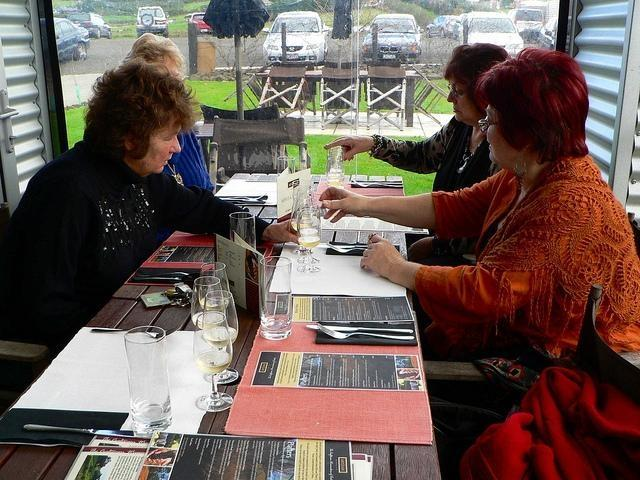car: (261, 10, 332, 68), (360, 13, 426, 67), (463, 10, 524, 58), (54, 19, 90, 63), (506, 9, 545, 40), (136, 6, 168, 38), (425, 15, 459, 39), (84, 12, 112, 40), (190, 9, 217, 38), (56, 10, 89, 31), (540, 17, 556, 50), (184, 12, 193, 21)
